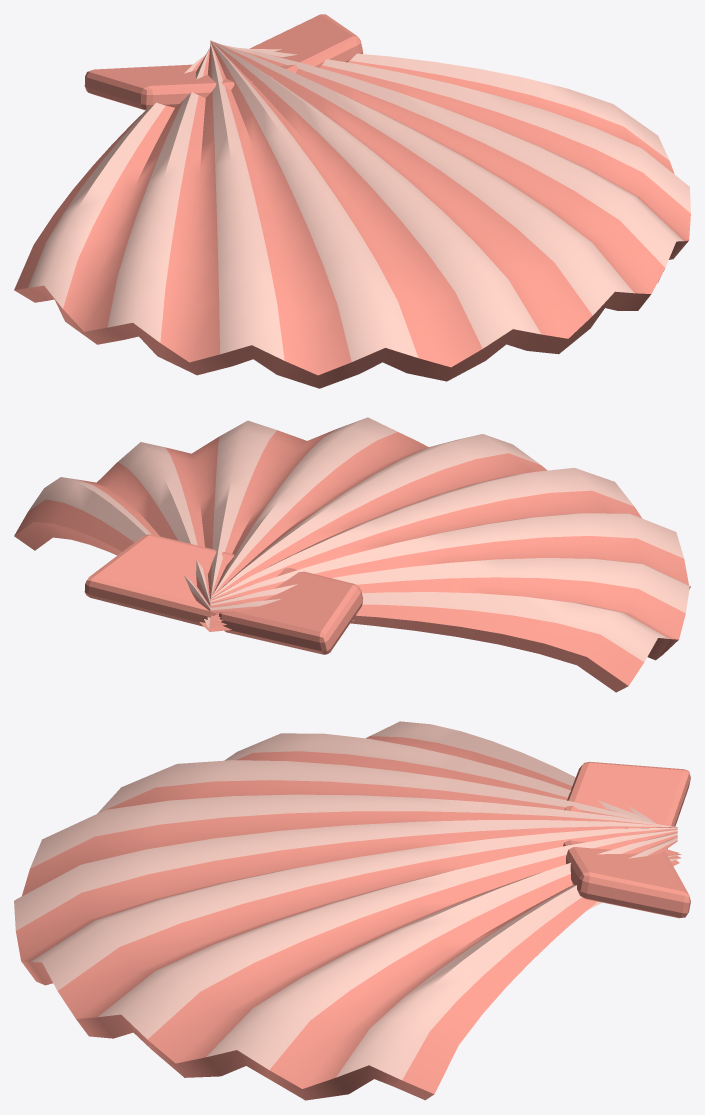
Rendered from concha-vieira.glb.
The picture shows the model from 3 angles, top to bottom: view 1: azimuth 30°, elevation 25°; view 2: azimuth 150°, elevation 25°; view 3: azimuth 270°, elevation 25°; orthographic projection. The views are drawn at different scales.
Parts seen in each view (by area): view 1: concha-vieira; view 2: concha-vieira; view 3: concha-vieira.
Part boxes in pixels (<box>): concha-vieira: <box>14,14,690,388</box>; concha-vieira: <box>14,417,690,692</box>; concha-vieira: <box>14,721,690,1100</box>.
Bounding box in the file's own units: 0.11 × 0.0208 × 0.0954.
